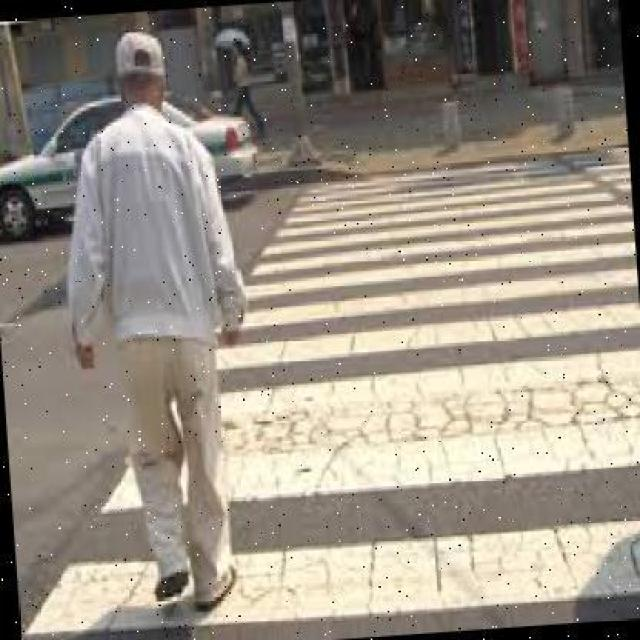Person: (53, 22, 262, 615)
